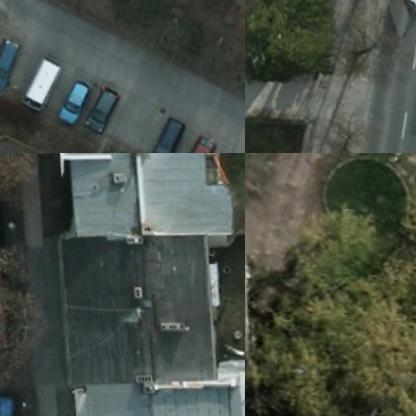car: (78, 87, 119, 136), (51, 80, 89, 124), (137, 120, 182, 152), (0, 38, 24, 91), (166, 137, 215, 152), (0, 300, 8, 356)
van: (15, 54, 61, 113)
